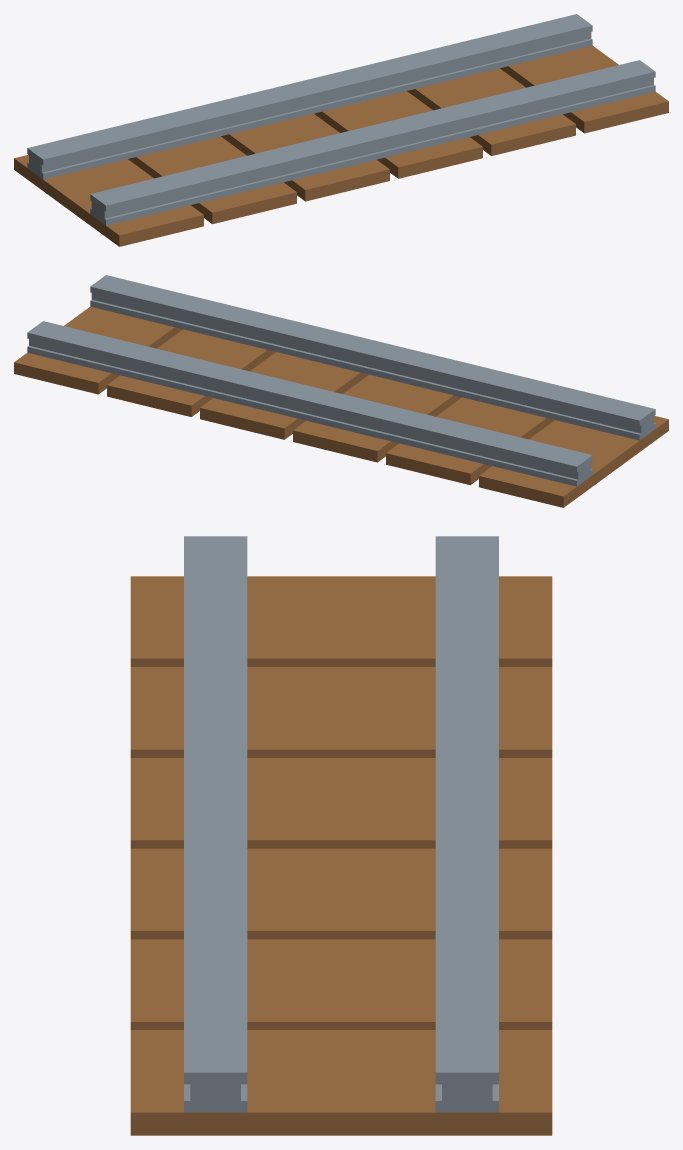
File: Trilho.fbx
3 views of the same model, one above another, from view 1: azimuth 30°, elevation 25°; view 2: azimuth 150°, elevation 25°; view 3: azimuth 270°, elevation 25° (orthographic). The views are drawn at different scales.
Parts seen in each view (by area): view 1: Trilho; view 2: Trilho; view 3: Trilho.
Part boxes in pixels (x1,y1,x2,y2): Trilho: (14,14,668,246); Trilho: (14,275,668,507); Trilho: (130,536,552,1135).
Bounding box in the file's own units: 108 × 5.93 × 36.03.
